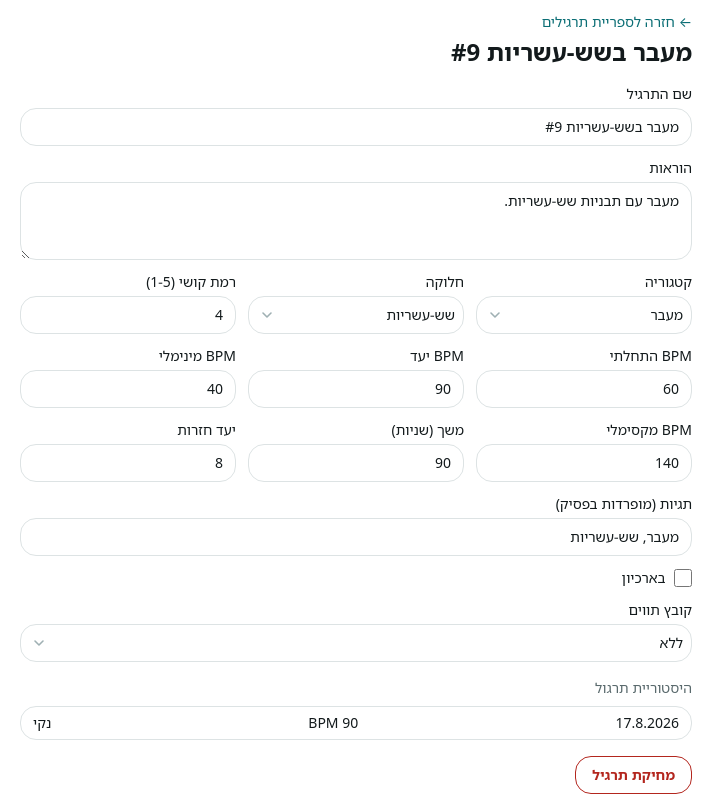
ExerciseDetailPage › loads the exercise, autosaves an edit, and shows practice history
expect the text "90 BPM" is shown: met, box [308,713,358,733]
Replace the text in the field labelled "שם התרגיל" with "תרגיל ערוך" at coordinates (356, 127), box [20,108,692,146]
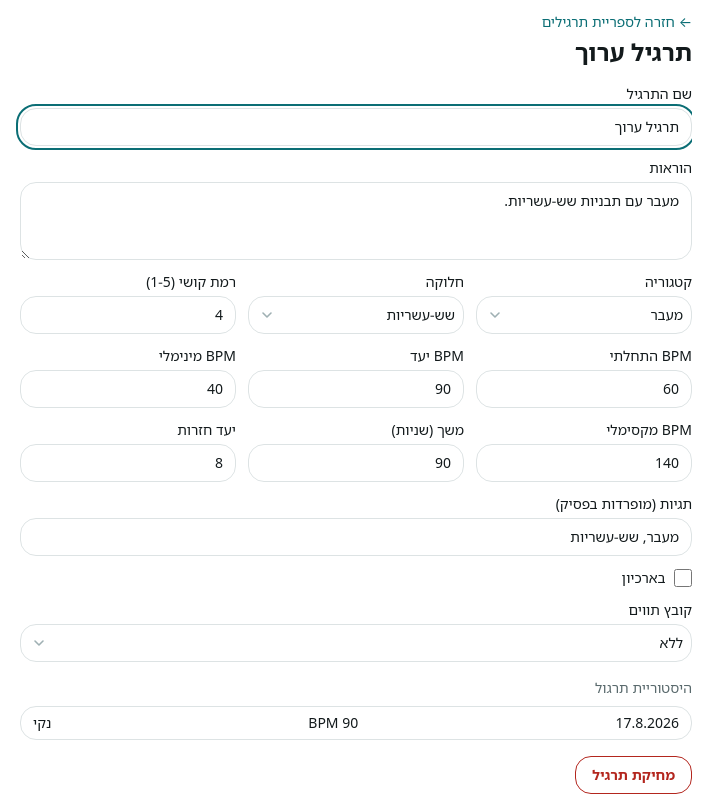
expect the heading "תרגיל ערוך" is shown: met, box [575,36,692,68]
